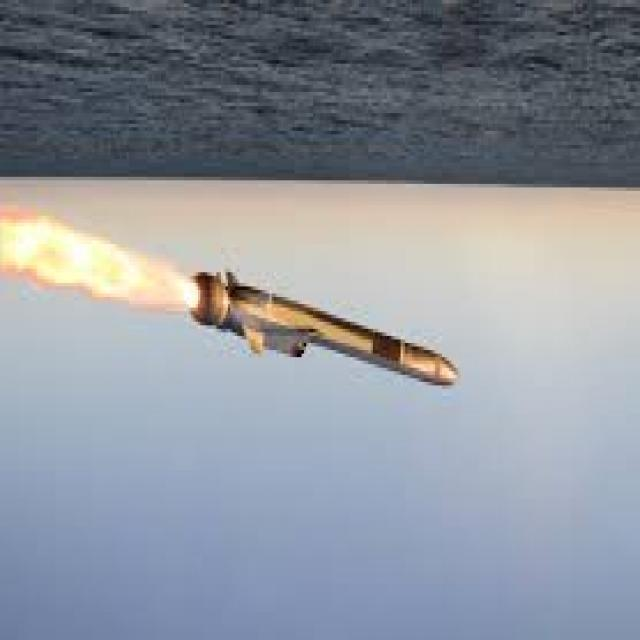missile: (188, 265, 462, 386)
